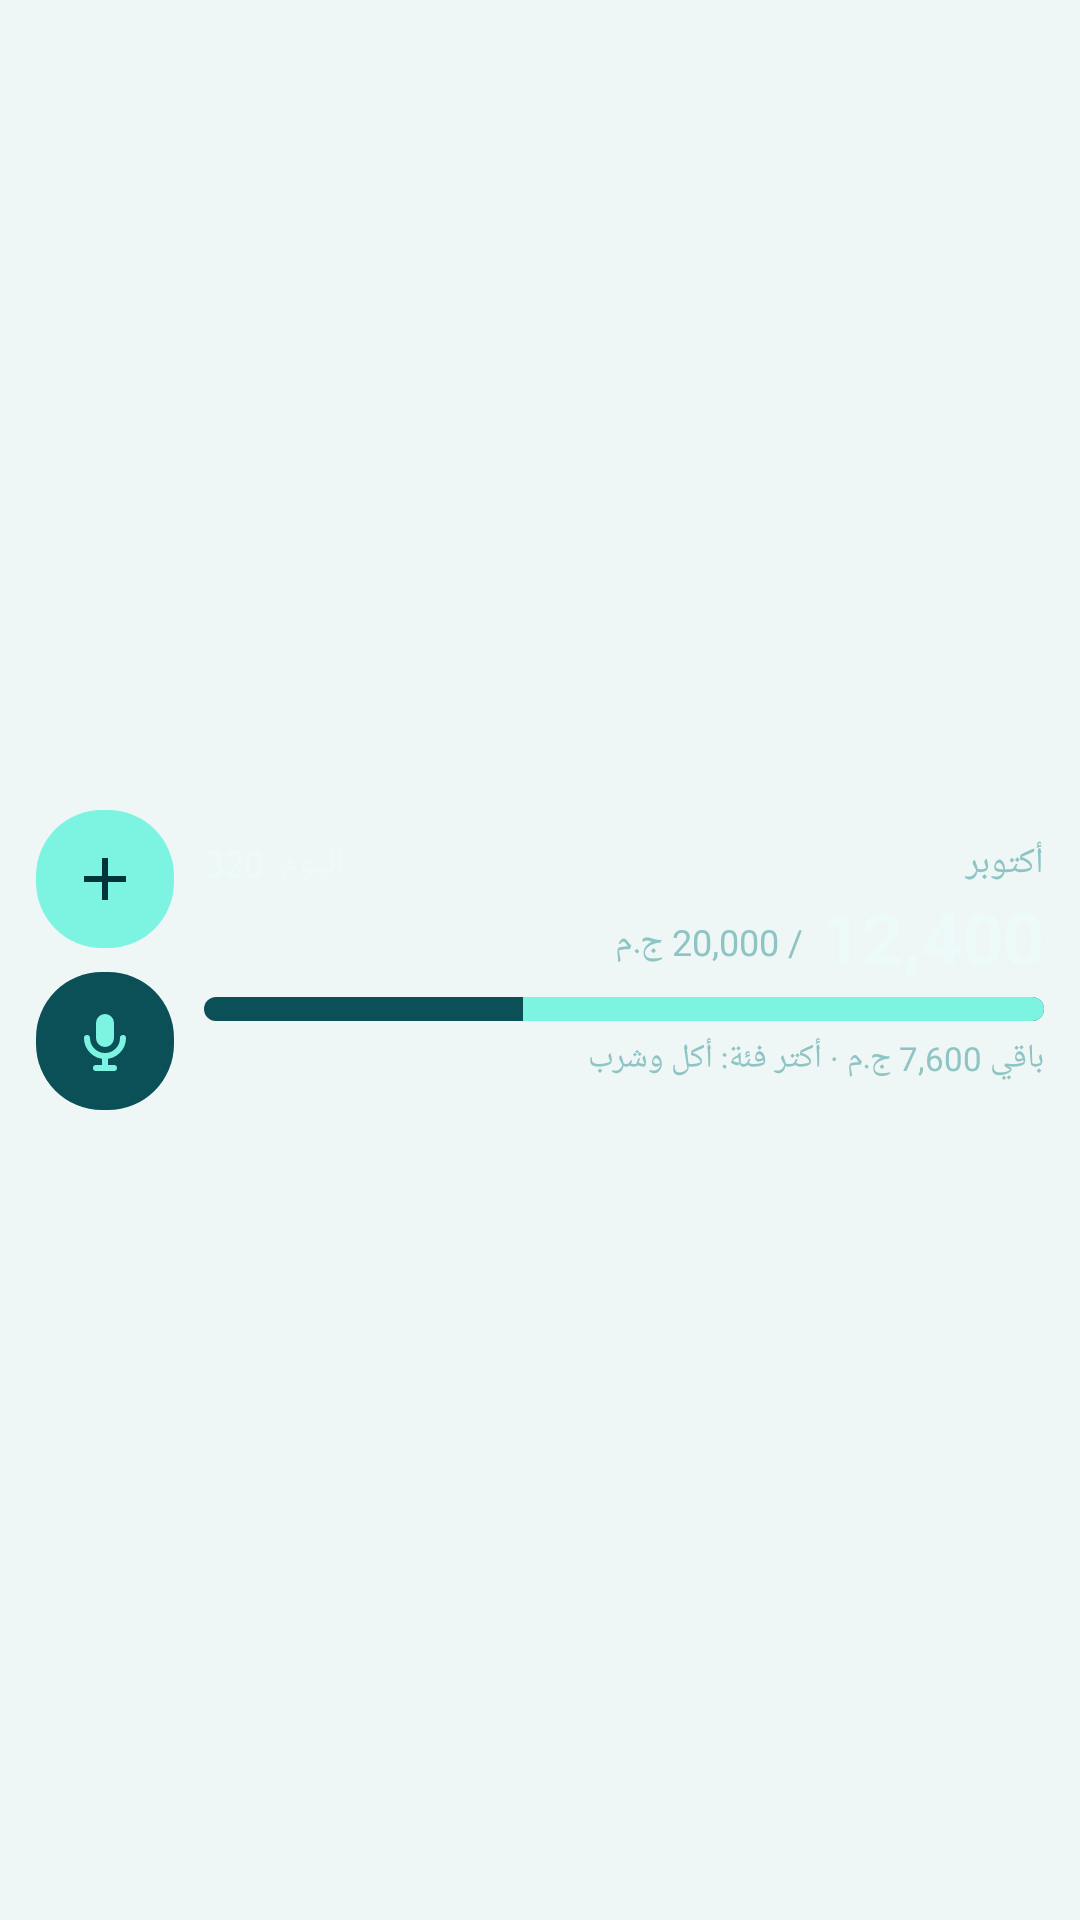

Where icons sit on this 1080w x 1920h app screen, as (x1, y1, x2, y2):
mic: (84, 1014, 126, 1071)
plus: (84, 858, 126, 900)
